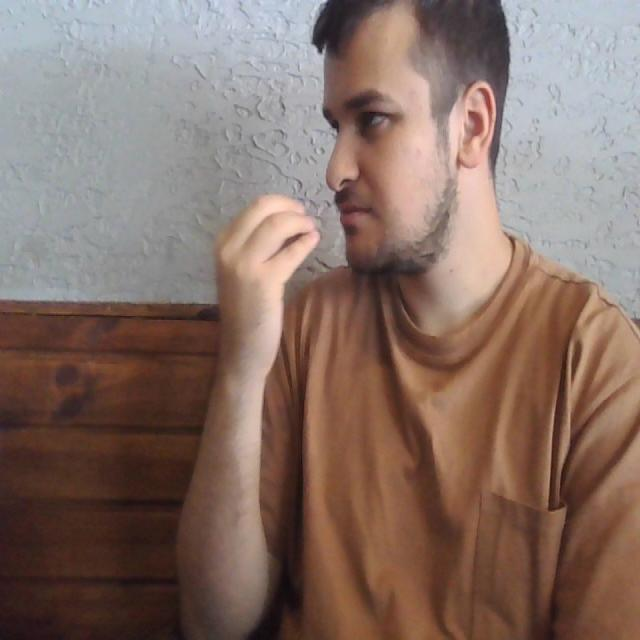Yemek: (181, 187, 388, 286)
